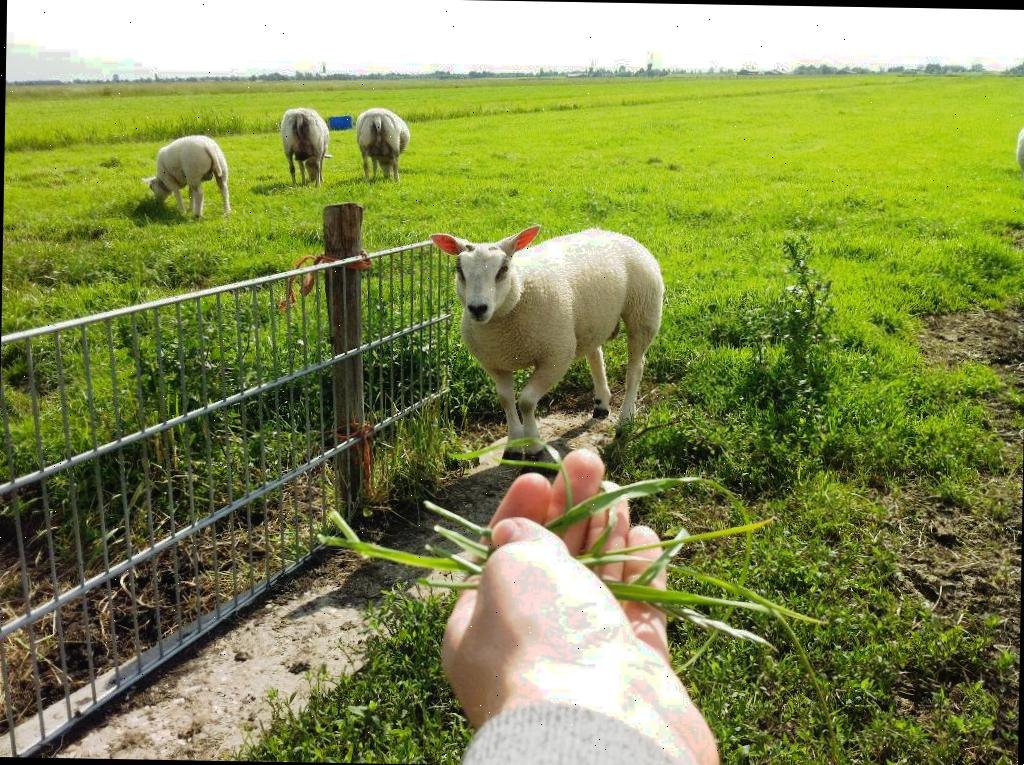Sheep: (422, 222, 666, 467), (140, 133, 231, 220), (280, 104, 331, 185), (356, 111, 412, 182)
